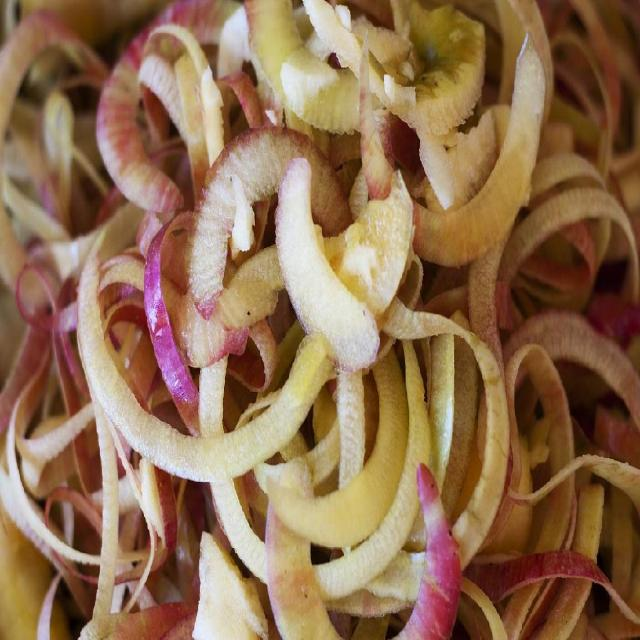Wet Waste: (1, 0, 640, 639)
